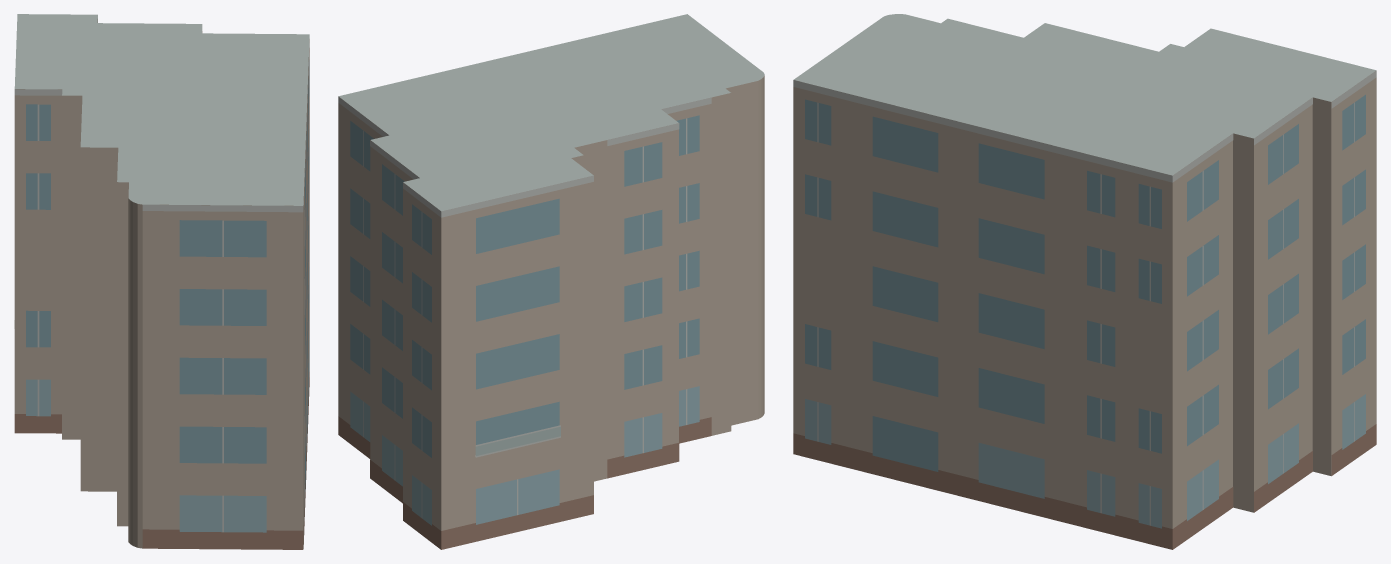
The model's file is survey-upis-32889861.glb.
The picture shows the model from 3 angles, left to right: view 1: azimuth 30°, elevation 25°; view 2: azimuth 150°, elevation 25°; view 3: azimuth 270°, elevation 25°; orthographic projection. The views are drawn at different scales.
Visible parts, largest first — view 1: survey-upis-32889861.tmp; view 2: survey-upis-32889861.tmp; view 3: survey-upis-32889861.tmp.
Part boxes in pixels (x1,y1,x2,y2): survey-upis-32889861.tmp: [14, 14, 309, 549]; survey-upis-32889861.tmp: [338, 14, 764, 549]; survey-upis-32889861.tmp: [793, 14, 1376, 549].
Bounding box in the file's own units: 12.14 × 13.1 × 18.51.
